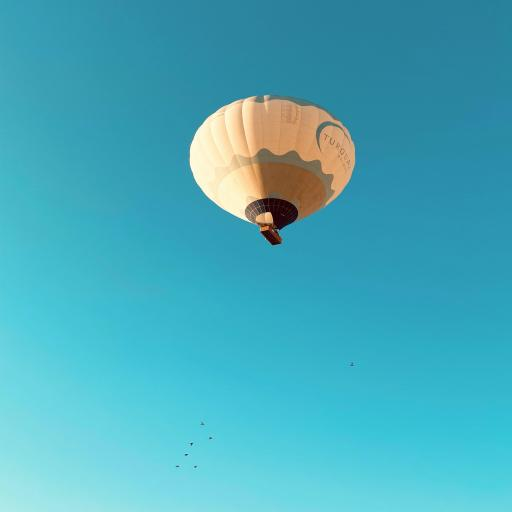hot air ballon: (187, 93, 356, 248)
